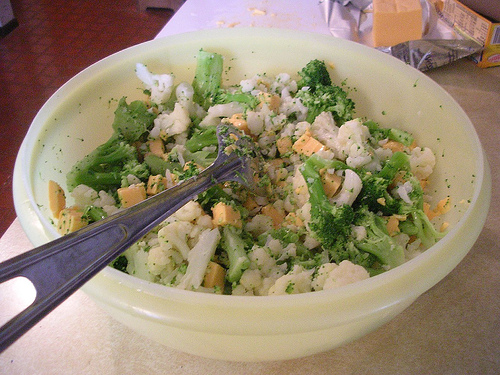broccoli: (330, 204, 407, 269), (66, 132, 146, 191), (288, 57, 353, 121)
